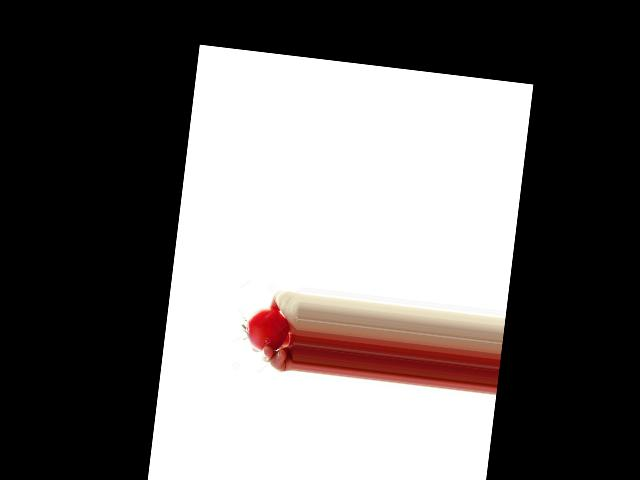tomato: (243, 306, 290, 355)
